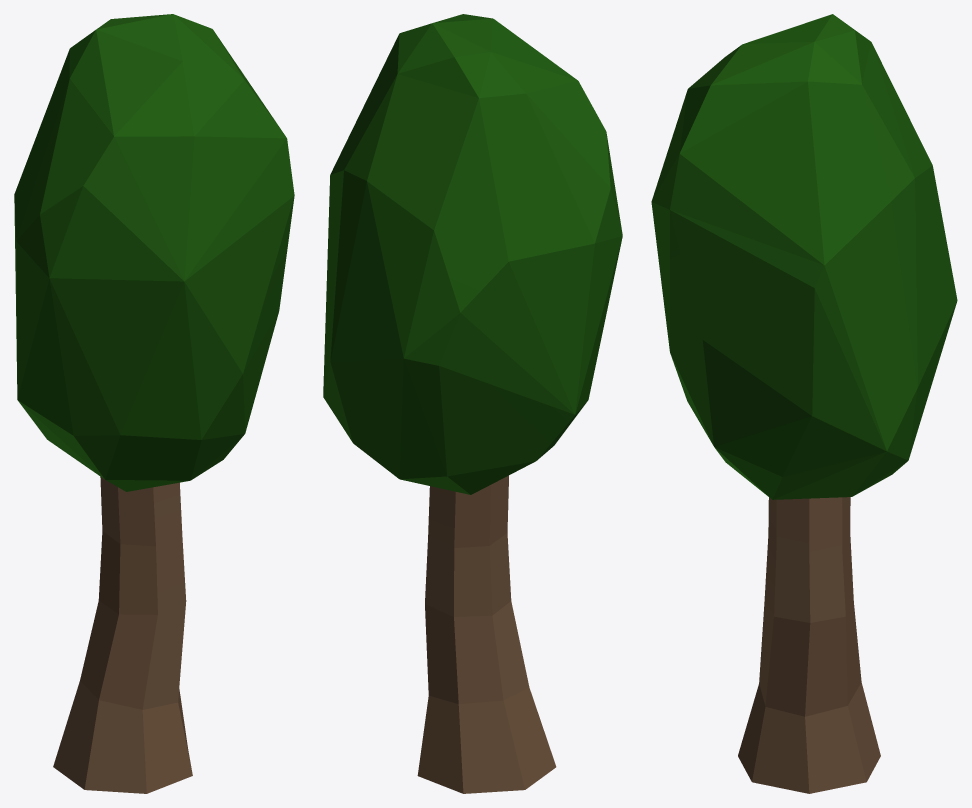
The model's file is Tree2.glb.
The picture shows the model from 3 angles, left to right: view 1: azimuth 30°, elevation 25°; view 2: azimuth 150°, elevation 25°; view 3: azimuth 270°, elevation 25°; orthographic projection.
Visible parts, largest first — view 1: Tree_4; view 2: Tree_4; view 3: Tree_4.
Part boxes in pixels (box(x1,y1,x2,y2)): Tree_4: box(14, 14, 294, 793); Tree_4: box(323, 14, 622, 793); Tree_4: box(651, 14, 957, 793).
Size of the model in its own units: 1.19 by 3.23 by 1.2.
1 material, 1 textured.
